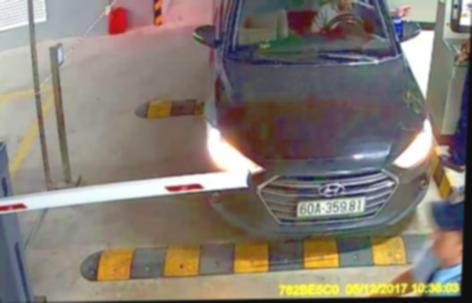License_Plate: (298, 196, 367, 219)
